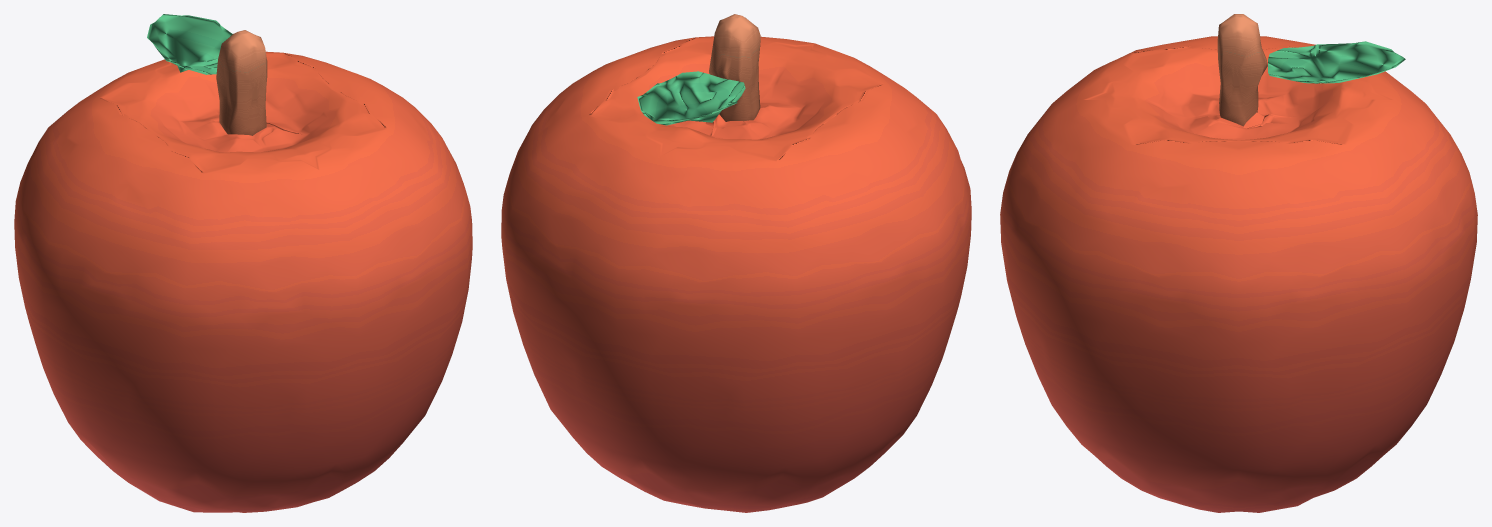
File: apple.glb
3 renders of one model, left to right at view 1: azimuth 30°, elevation 25°; view 2: azimuth 150°, elevation 25°; view 3: azimuth 270°, elevation 25°, orthographic. The views are drawn at different scales.
Size of the model in its own units: 0.9159 by 0.9661 by 0.9152.
1 material, 1 textured.
